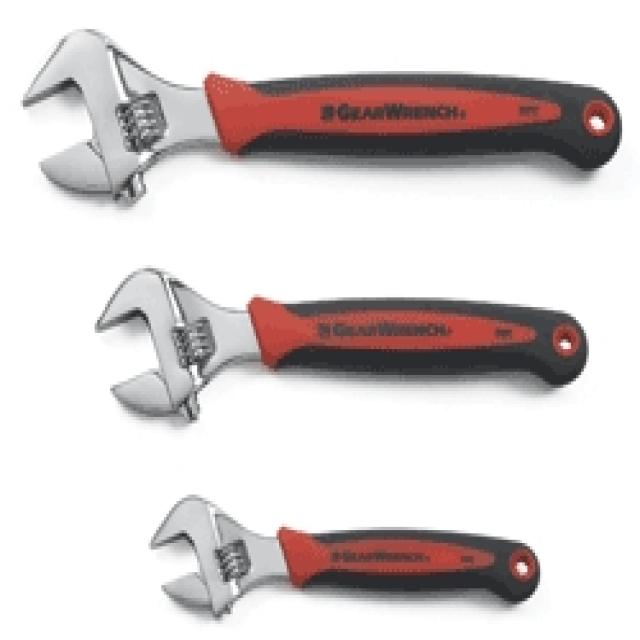wrench: (14, 23, 640, 221), (80, 253, 592, 443), (134, 462, 574, 640)
